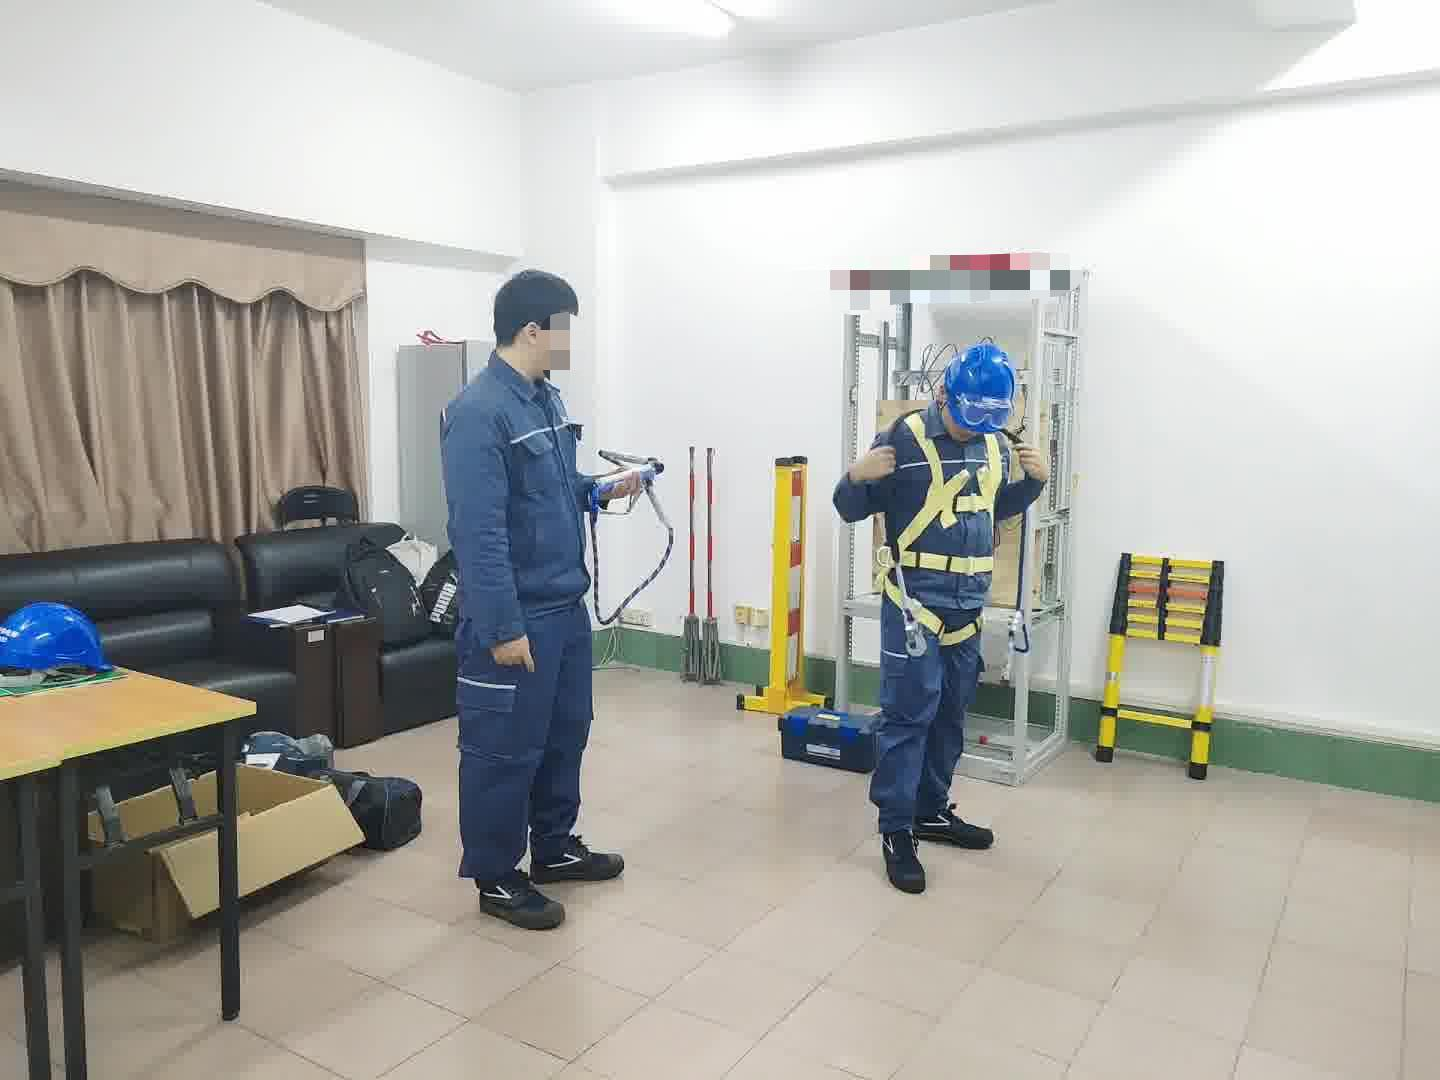halt: (945, 343, 1020, 437)
noear: (515, 317, 553, 360)
unhalt: (492, 271, 586, 378)
